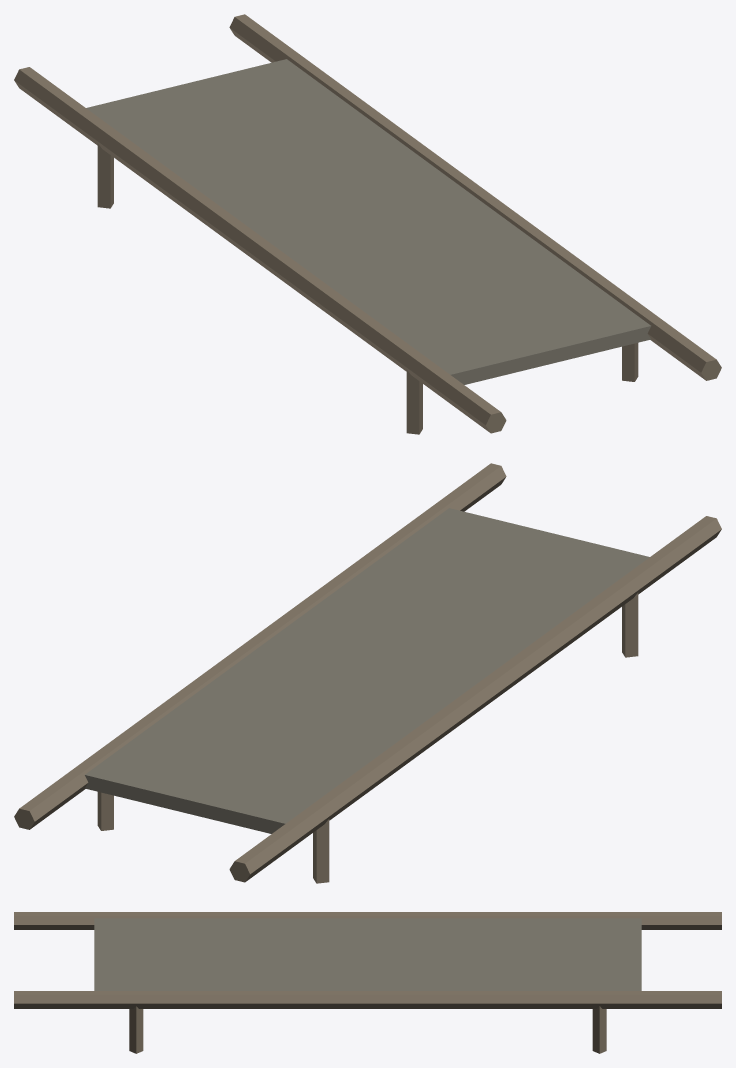
File: stretcher.glb
3 renders of one model, top to bottom at view 1: azimuth 30°, elevation 25°; view 2: azimuth 150°, elevation 25°; view 3: azimuth 270°, elevation 25°, orthographic. The views are drawn at different scales.
Visible parts, largest first — view 1: stretcher; view 2: stretcher; view 3: stretcher.
Part boxes in pixels (x1,y1,x2,y2): stretcher: (14,14,721,434); stretcher: (14,463,721,883); stretcher: (14,912,721,1053).
Size of the model in its own units: 0.636 by 0.1992 by 2.2.
